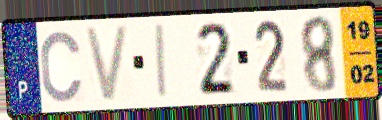2: (193, 21, 237, 98), (253, 18, 289, 94)
8: (298, 13, 339, 95)
C: (38, 28, 86, 105)
I: (154, 22, 170, 102)
V: (82, 22, 133, 105)
